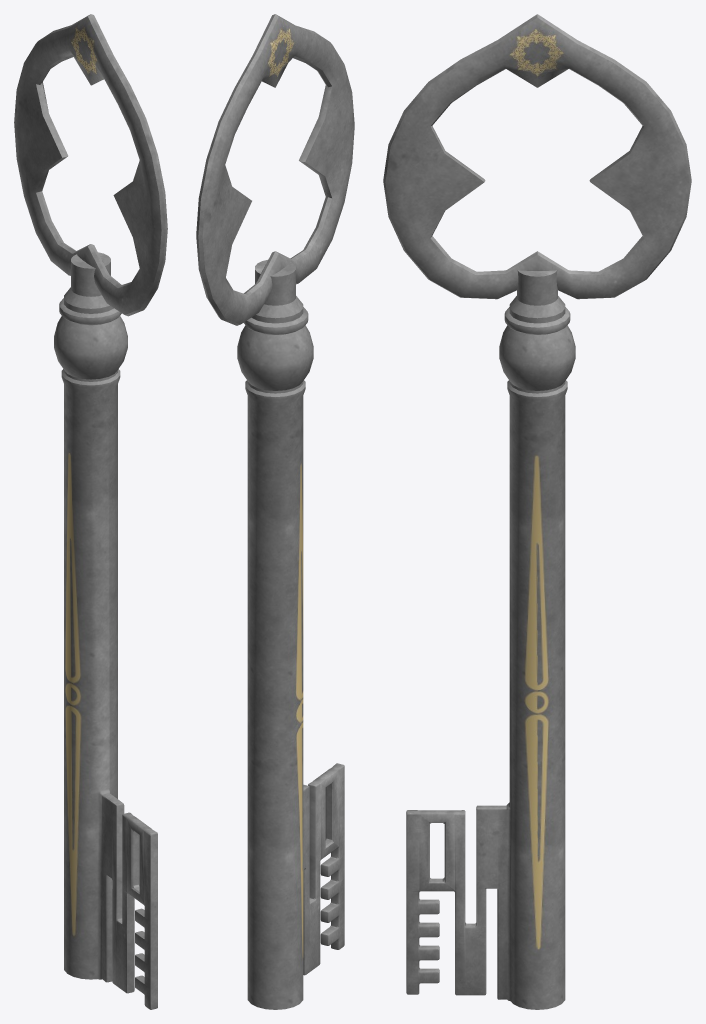
The model's file is key.fbx.
3 renders of one model, left to right at view 1: azimuth 30°, elevation 25°; view 2: azimuth 150°, elevation 25°; view 3: azimuth 270°, elevation 25°, orthographic. The views are drawn at different scales.
Parts seen in each view (by area): view 1: Key_Body; view 2: Key_Body; view 3: Key_Body.
Boxes of the visible parts, <box> form: Key_Body: <box>14,14,167,1009</box>; Key_Body: <box>196,14,354,1009</box>; Key_Body: <box>383,14,691,1009</box>.
Bounding box in the file's own units: 14.24 × 200 × 56.85.
